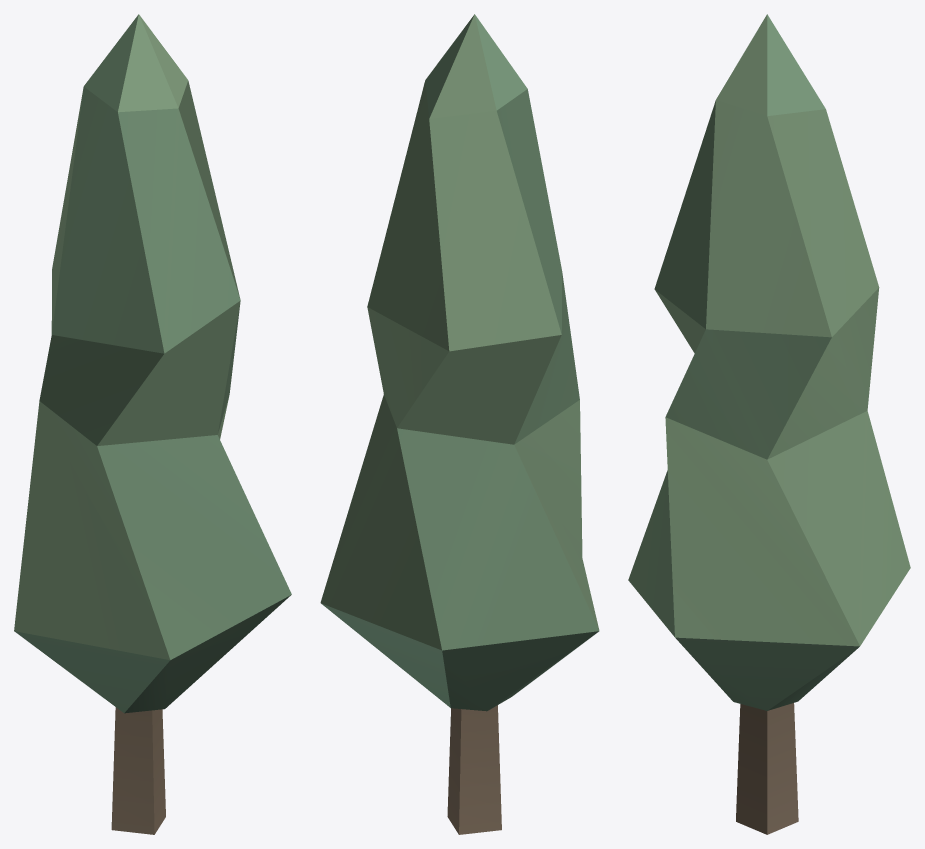
The model's file is shrub.lod2.glb.
The picture shows the model from 3 angles, left to right: view 1: azimuth 30°, elevation 25°; view 2: azimuth 150°, elevation 25°; view 3: azimuth 270°, elevation 25°; orthographic projection.
Bounding box in the file's own units: 0.9381 × 3.12 × 0.9891.
